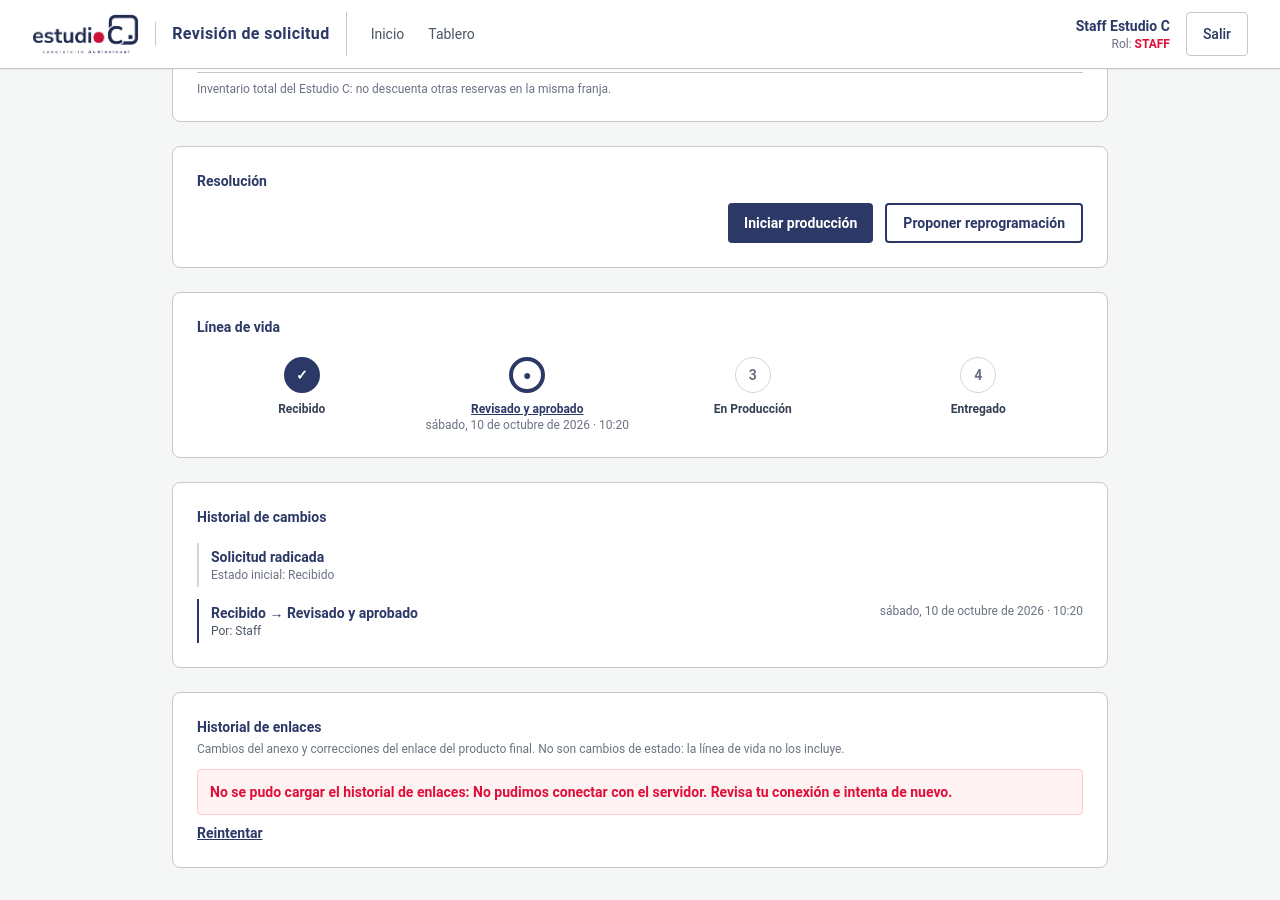
Test case: DetalleStaff · historial de enlaces (Fase 9 · K4) › error propio con reintento; el detalle sigue disponible
This screenshot has width=1280, height=900.
(page scrolled)
Expected: the message shows "No se pudo cargar el historial de enlaces:", x1=210 y1=784 x2=470 y2=800
Expected: the message shows "No pudimos conectar con el servidor. Revisa tu conexión e intenta de nuevo.", x1=473 y1=784 x2=952 y2=800
Click the button "Reintentar": click(230, 833) x1=197 y1=823 x2=262 y2=843
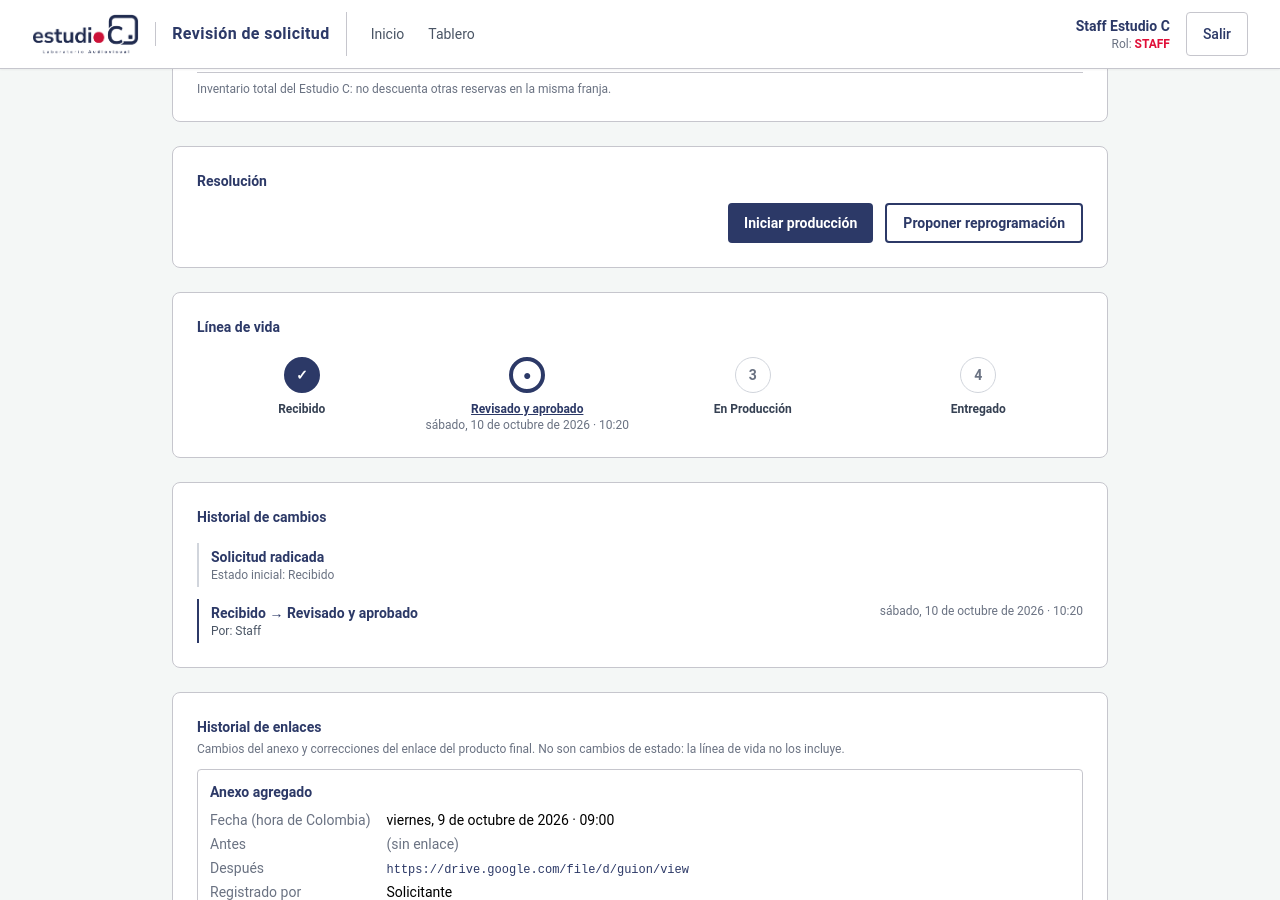
Expected: the text "Anexo agregado" is shown, x1=210 y1=784 x2=312 y2=800
